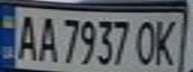3: (93, 17, 115, 66)
7: (57, 15, 81, 65), (112, 17, 133, 66)
9: (78, 16, 96, 65)
A: (12, 10, 39, 62), (33, 12, 60, 63)
K: (151, 16, 181, 66)
O: (133, 16, 160, 66)
